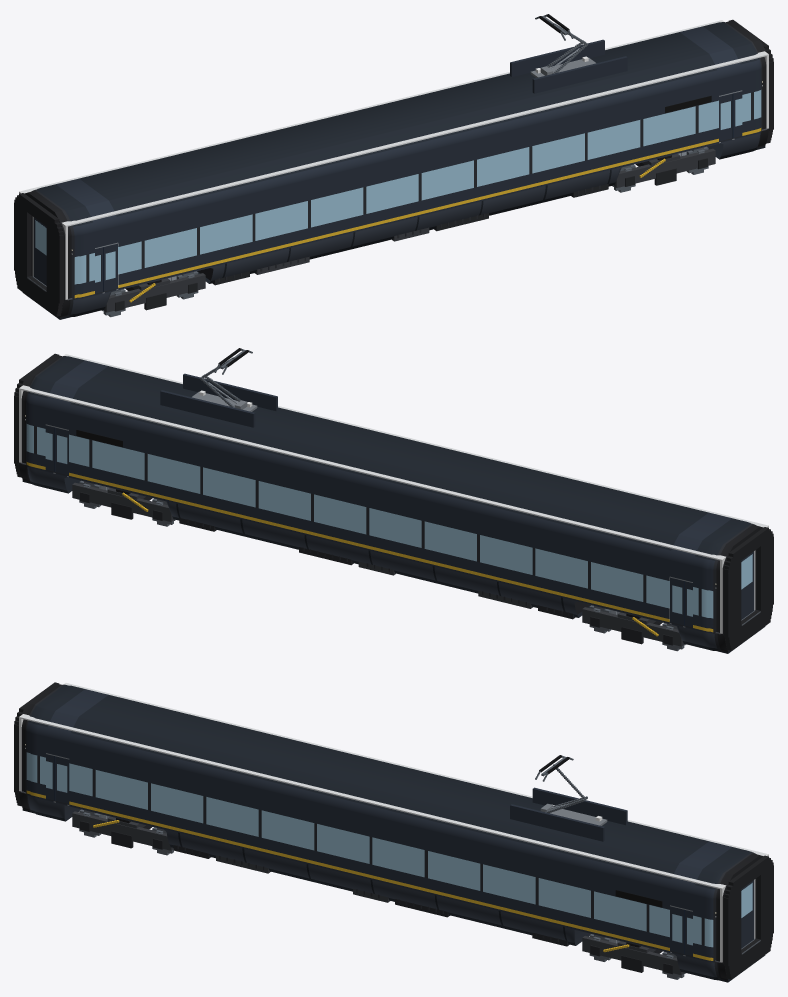
The model's file is e320_car.obj.
3 views of the same model, one above another, from view 1: azimuth 30°, elevation 25°; view 2: azimuth 150°, elevation 25°; view 3: azimuth 330°, elevation 25° (orthographic).
Parts seen in each view (by area): view 1: SHELL, SHELL_ceiling, SHELL_diaphragm, SHELL_pantograph, BOGEY_REAR, BOGEY_FRONT, FRAME, CONNECTING_DOOR_1_CG_CR_TOGGLE_TL_0.98_Z, EXTERNAL_DOOR_10_CG_DR2_TOGGLE_TL_-0.44_X, EXTERNAL_DOOR_5_CG_DR1_TOGGLE_TL_0.44_X, SHELL_end; view 2: SHELL, SHELL_ceiling, SHELL_diaphragm, SHELL_pantograph, BOGEY_REAR, BOGEY_FRONT, FRAME, CONNECTING_DOOR_1_CG_CR_TOGGLE_TL_0.98_Z, EXTERNAL_DOOR_13_CG_DL2_TOGGLE_TL_-0.44_X, EXTERNAL_DOOR_8_CG_DL1_TOGGLE_TL_0.44_X, SHELL_end; view 3: SHELL, SHELL_ceiling, SHELL_diaphragm, SHELL_pantograph, BOGEY_FRONT, BOGEY_REAR, FRAME, CONNECTING_DOOR_2_CG_CF_TOGGLE_TL_0.98_Z, EXTERNAL_DOOR_10_CG_DR2_TOGGLE_TL_-0.44_X, EXTERNAL_DOOR_5_CG_DR1_TOGGLE_TL_0.44_X, SHELL_end.
Boxes of the visible parts, x1,y1,x2,y2 form: SHELL: (22, 20, 769, 319); SHELL_ceiling: (21, 20, 767, 226); SHELL_diaphragm: (14, 19, 773, 316); SHELL_pantograph: (510, 14, 627, 93); BOGEY_REAR: (104, 273, 205, 312); BOGEY_FRONT: (614, 148, 715, 187); FRAME: (95, 136, 742, 294); CONNECTING_DOOR_1_CG_CR_TOGGLE_TL_0.98_Z: (33, 217, 46, 285); EXTERNAL_DOOR_10_CG_DR2_TOGGLE_TL_-0.44_X: (719, 93, 733, 141); EXTERNAL_DOOR_5_CG_DR1_TOGGLE_TL_0.44_X: (104, 243, 117, 291); SHELL_end: (19, 20, 768, 299); SHELL: (18, 354, 765, 653); SHELL_ceiling: (20, 354, 766, 560); SHELL_diaphragm: (14, 353, 773, 650); SHELL_pantograph: (160, 348, 277, 427); BOGEY_REAR: (582, 607, 683, 646); BOGEY_FRONT: (72, 482, 173, 521); FRAME: (45, 470, 692, 628); CONNECTING_DOOR_1_CG_CR_TOGGLE_TL_0.98_Z: (741, 551, 754, 619); EXTERNAL_DOOR_13_CG_DL2_TOGGLE_TL_-0.44_X: (54, 427, 68, 475); EXTERNAL_DOOR_8_CG_DL1_TOGGLE_TL_0.44_X: (670, 577, 683, 625); SHELL_end: (19, 354, 768, 633); SHELL: (18, 683, 765, 982); SHELL_ceiling: (20, 683, 766, 888); SHELL_diaphragm: (14, 682, 773, 979); SHELL_pantograph: (510, 755, 627, 841); BOGEY_FRONT: (582, 936, 683, 975); BOGEY_REAR: (72, 811, 173, 850); FRAME: (46, 798, 692, 956); CONNECTING_DOOR_2_CG_CF_TOGGLE_TL_0.98_Z: (741, 880, 754, 948); EXTERNAL_DOOR_10_CG_DR2_TOGGLE_TL_-0.44_X: (670, 906, 684, 954); EXTERNAL_DOOR_5_CG_DR1_TOGGLE_TL_0.44_X: (55, 756, 69, 803); SHELL_end: (19, 683, 768, 962).
Bounding box in the file's own units: 24.52 × 5.68 × 2.94.
1 material, 1 textured.
